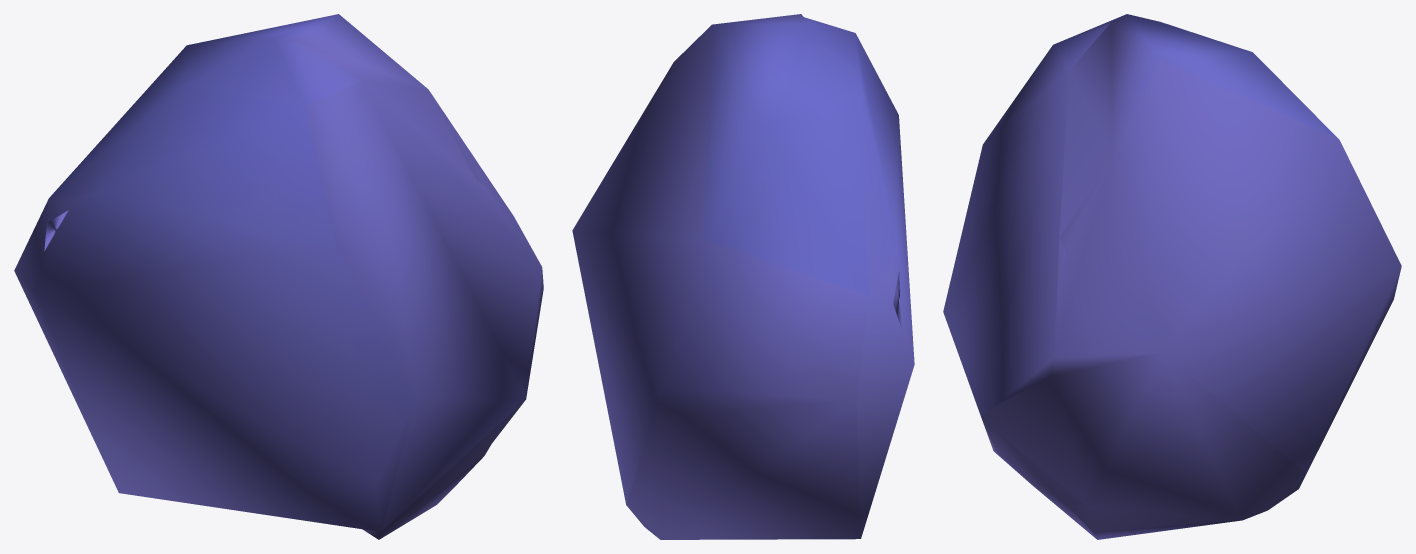
File: model.progressive.glb
The picture shows the model from 3 angles, left to right: view 1: azimuth 30°, elevation 25°; view 2: azimuth 150°, elevation 25°; view 3: azimuth 270°, elevation 25°; orthographic projection. The views are drawn at different scales.
Visible parts, largest first — view 1: material; view 2: material; view 3: material.
Part boxes in pixels (x1,y1,x2,y2): material: (14,14,543,539); material: (572,14,914,539); material: (943,14,1401,539).
Bounding box in the file's own units: 1.59 × 1.84 × 1.67.
1 material, 1 textured.
